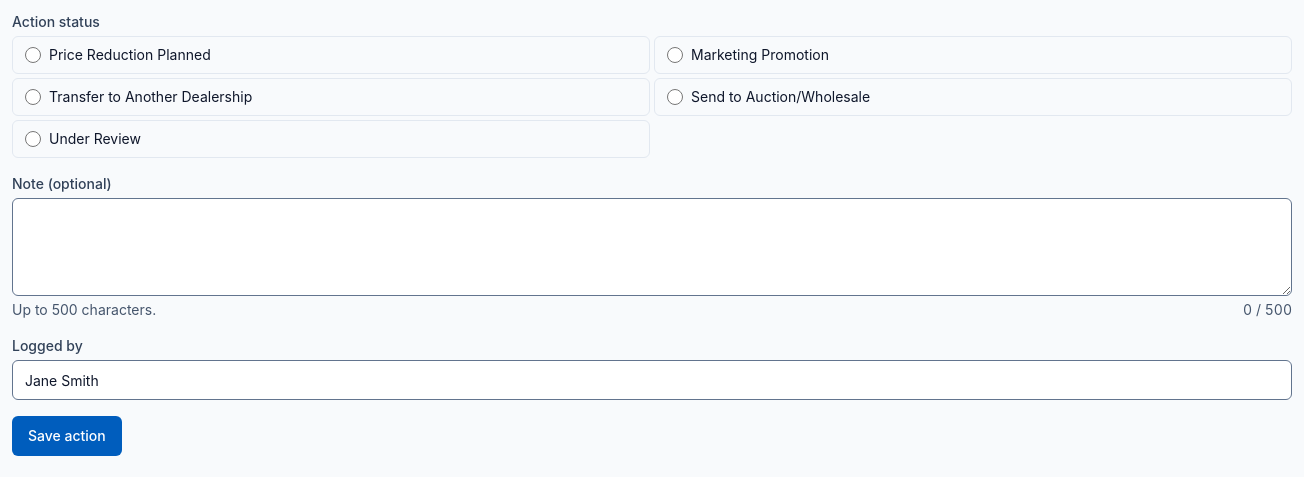
Test: LogActionForm (T-031) › pre-fills "Logged by" with the remembered name, still editable (AC-012.1)
The width and height of the screenshot is (1304, 477).
Replace the text in the field labelled "Logged by" with "Sam Patel" at (652, 380), box [12,360,1292,400]
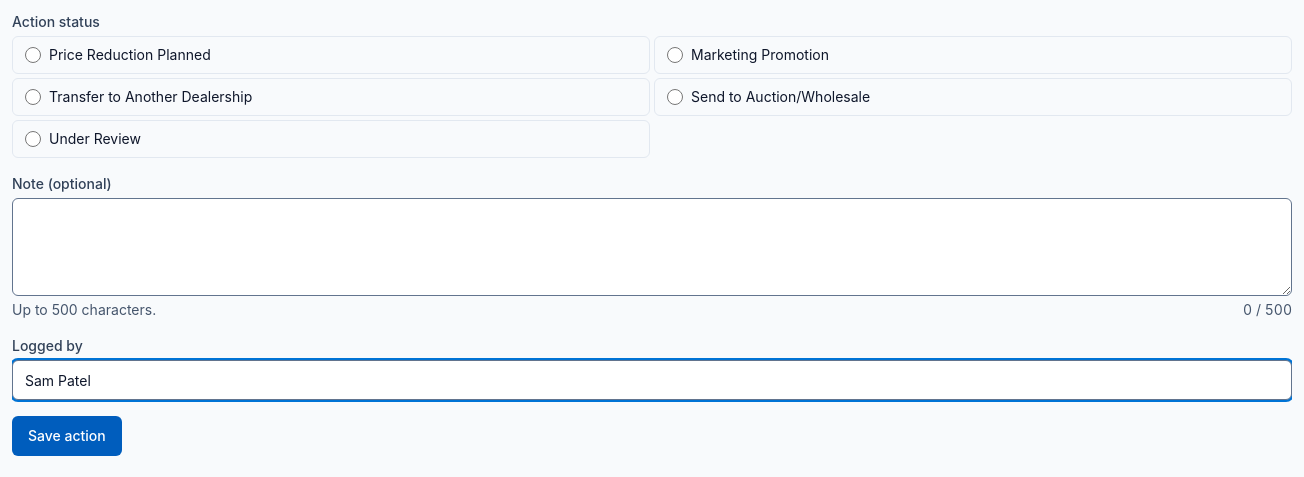
Click the radio button labelled "Under Review" at (33, 139), box [25,131,41,147]
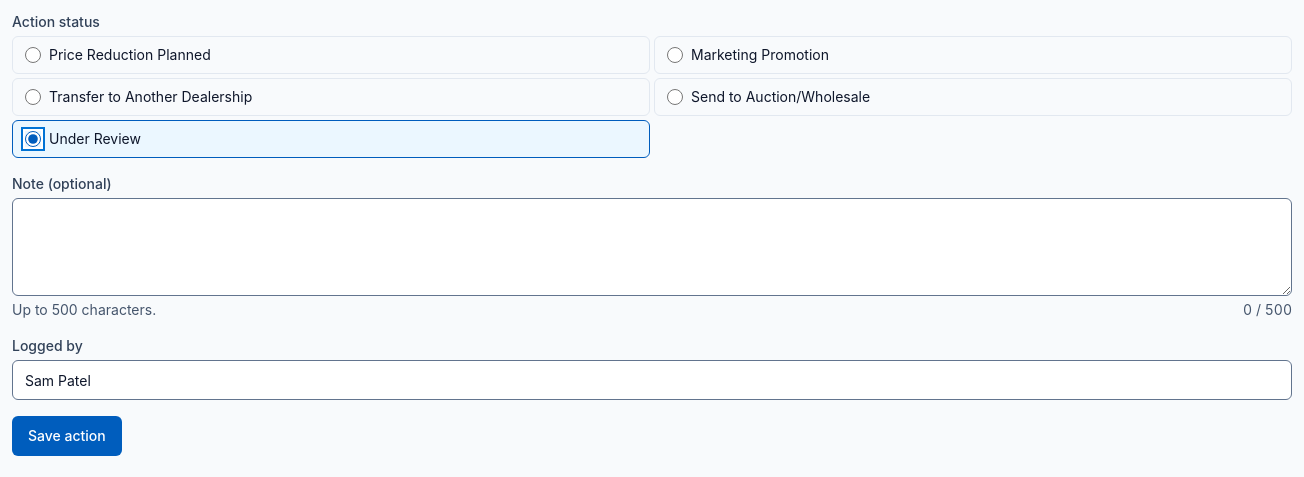
Click the button "Save action" at (67, 436), box [12,416,122,456]
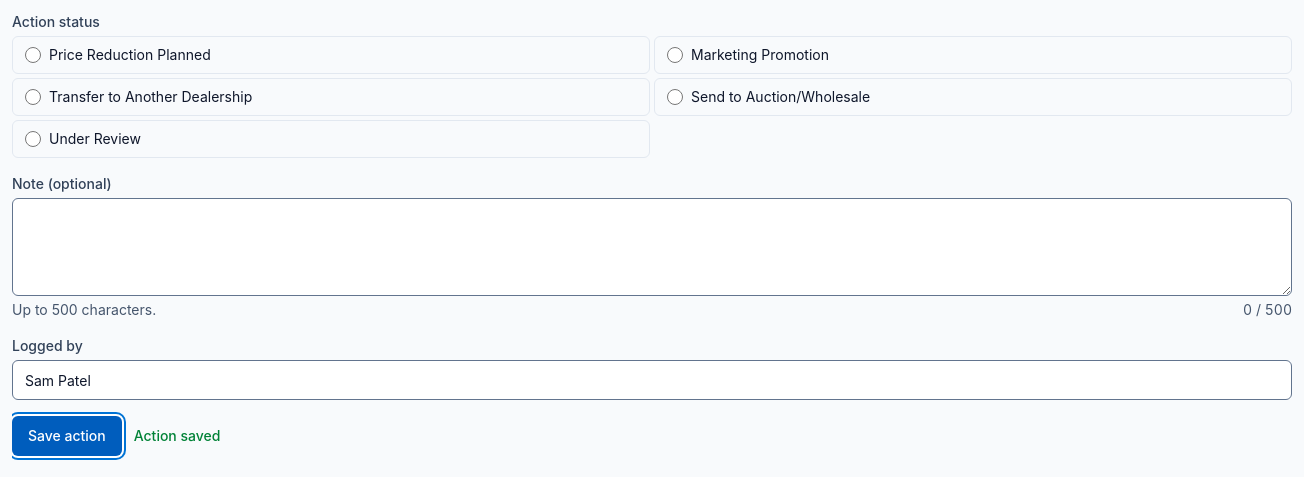
Expected: the text "Action saved" is shown, [134,426,220,446]
